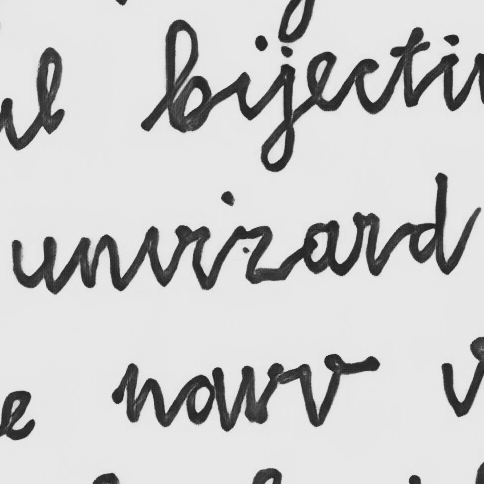a: (300, 217, 342, 278)
d: (407, 169, 451, 268)
i: (190, 215, 215, 293)
n: (76, 232, 123, 293)
r: (344, 208, 388, 277)
u: (10, 234, 60, 296)
v: (142, 221, 186, 289)
z: (229, 223, 281, 286)
